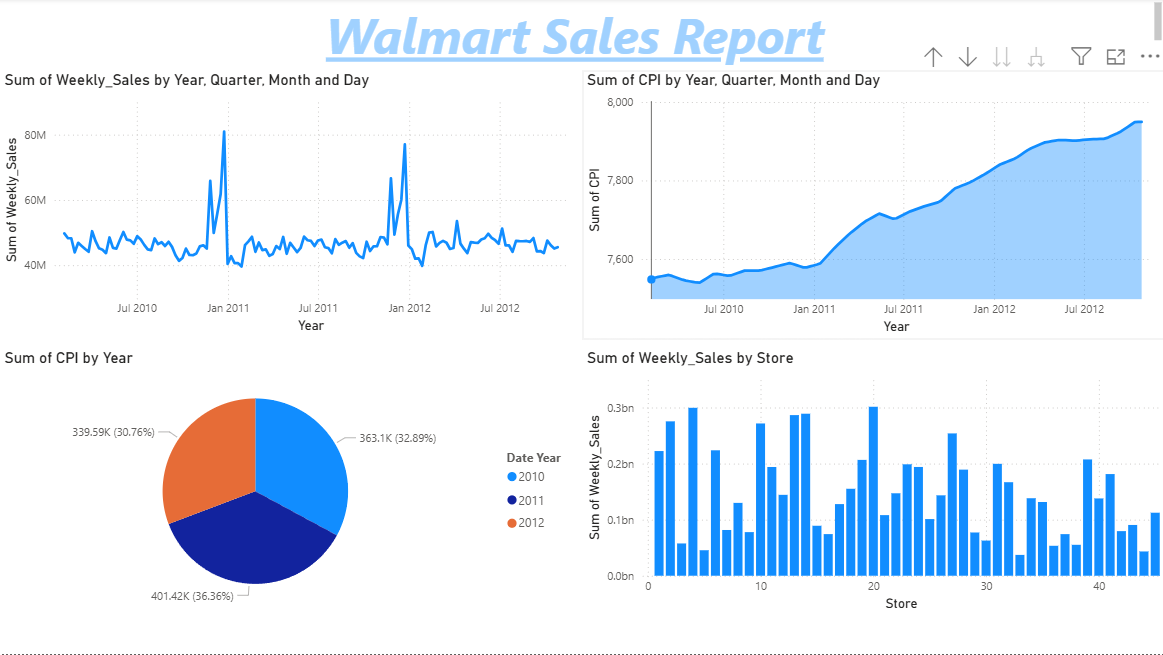

The page's visual inventory and layout, read from the dashboard file:
{"tool":"powerbi","page":{"name":"Page 1","canvas":[1280,720],"ordinal":0},"visuals":[{"type":"textbox","box":[0,0,1280.3,79.6],"z":0},{"type":"lineChart","fields":{"Category":["Walmart_Sales.Date.Variation.Date Hierarchy.Year","Walmart_Sales.Date.Variation.Date Hierarchy.Quarter","Walmart_Sales.Date.Variation.Date Hierarchy.Month","Walmart_Sales.Date.Variation.Date Hierarchy.Day"],"Y":["Sum(Walmart_Sales.Weekly_Sales)"]},"box":[0,79.6,639.5,293.7],"z":1},{"type":"pieChart","fields":{"Y":["Sum(Walmart_Sales.CPI)"],"Category":["Walmart_Sales.Date.Variation.Date Hierarchy.Year","Walmart_Sales.Date.Variation.Date Hierarchy.Quarter","Walmart_Sales.Date.Variation.Date Hierarchy.Month","Walmart_Sales.Date.Variation.Date Hierarchy.Day"]},"box":[0,384,639,294],"z":2},{"type":"stackedAreaChart","fields":{"Category":["Walmart_Sales.Date.Variation.Date Hierarchy.Year","Walmart_Sales.Date.Variation.Date Hierarchy.Quarter","Walmart_Sales.Date.Variation.Date Hierarchy.Month","Walmart_Sales.Date.Variation.Date Hierarchy.Day"],"Y":["Sum(Walmart_Sales.CPI)"]},"box":[639,80,641,294],"z":3},{"type":"lineClusteredColumnComboChart","fields":{"Category":["Walmart_Sales.Store"],"Y":["Sum(Walmart_Sales.Weekly_Sales)"]},"box":[639,384,641,294],"z":4}]}

Visuals, with their boxes in screenshot pixels (x1, y1, x2, y2), scaled from the page's 1280x720 canvas onto the 1163x655 screenshot:
textbox: (left=0, top=0, right=1162, bottom=72)
lineChart - Walmart_Sales.Date.Variation.Date Hierarchy.Year x Walmart_Sales.Date.Variation.Date Hierarchy.Quarter: (left=0, top=72, right=581, bottom=340)
pieChart - Sum(Walmart_Sales.CPI) x Walmart_Sales.Date.Variation.Date Hierarchy.Year: (left=0, top=349, right=581, bottom=617)
stackedAreaChart - Walmart_Sales.Date.Variation.Date Hierarchy.Year x Walmart_Sales.Date.Variation.Date Hierarchy.Quarter: (left=581, top=73, right=1162, bottom=340)
lineClusteredColumnComboChart - Walmart_Sales.Store x Sum(Walmart_Sales.Weekly_Sales): (left=581, top=349, right=1162, bottom=617)
